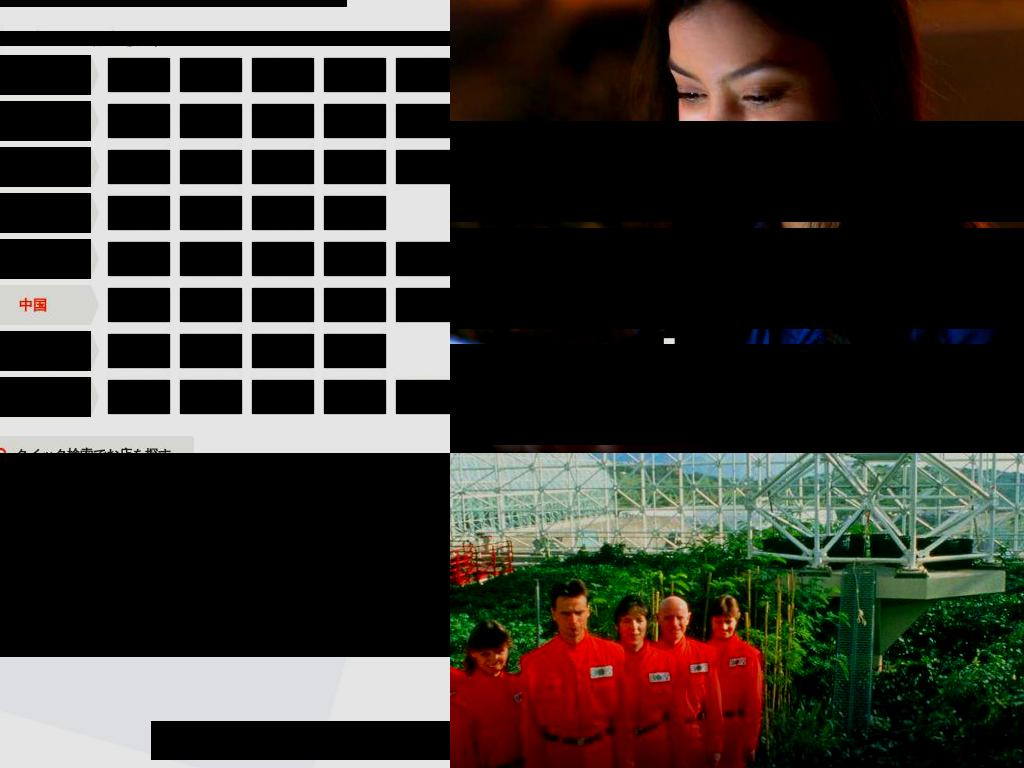button: (108, 58, 170, 92), (180, 58, 242, 92), (252, 58, 314, 92), (324, 58, 386, 92), (108, 104, 170, 138), (180, 104, 242, 138), (252, 104, 314, 138), (324, 104, 386, 138), (108, 150, 170, 184), (180, 150, 242, 184), (252, 150, 314, 184), (324, 150, 386, 184), (108, 196, 170, 230), (180, 196, 242, 230), (252, 196, 314, 230), (324, 196, 386, 230), (108, 242, 170, 276), (180, 242, 242, 276), (252, 242, 314, 276), (324, 242, 386, 276), (108, 288, 170, 322), (180, 288, 242, 322), (252, 288, 314, 322), (324, 288, 386, 322), (108, 334, 170, 368), (180, 334, 242, 368), (252, 334, 314, 368), (324, 334, 386, 368), (108, 380, 170, 414), (180, 380, 242, 414), (252, 380, 314, 414), (324, 380, 386, 414), (396, 58, 450, 92), (396, 104, 450, 138), (396, 150, 450, 184), (396, 242, 450, 276), (396, 288, 450, 322), (396, 380, 450, 414)
heading: (31, 453, 323, 493), (151, 721, 450, 760), (0, 31, 450, 46)
image: (0, 453, 450, 657)
text: (450, 121, 1024, 222), (450, 228, 1024, 329), (450, 344, 1024, 445), (31, 539, 450, 607), (31, 514, 450, 557), (0, 55, 91, 95), (0, 101, 91, 141), (0, 147, 91, 187), (0, 193, 91, 233), (0, 239, 91, 279), (0, 285, 91, 325), (0, 331, 91, 371), (0, 377, 91, 417), (239, 539, 371, 557)
